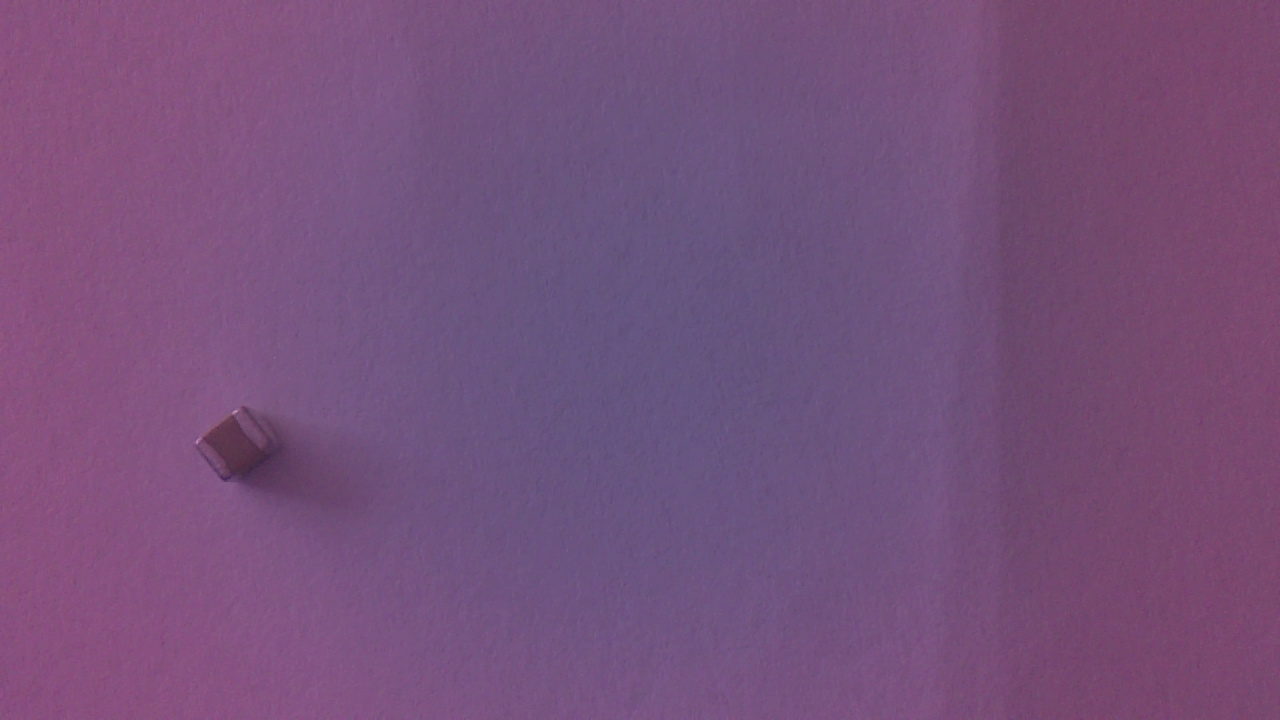Condensator: (196, 407, 287, 489)
